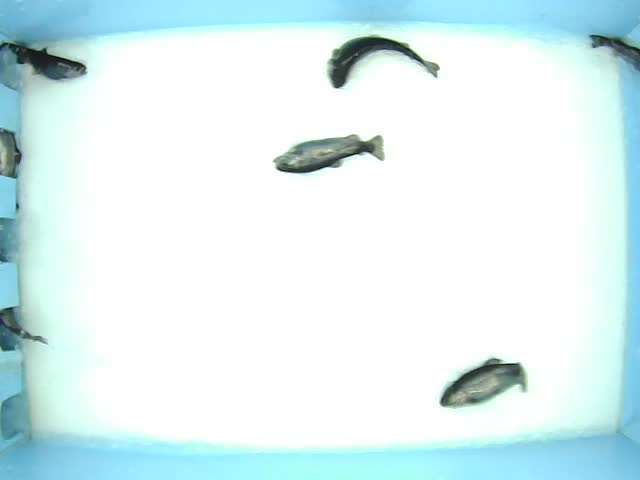fish: (309, 37, 472, 114), (260, 125, 424, 194), (435, 359, 535, 410), (12, 45, 105, 92)
